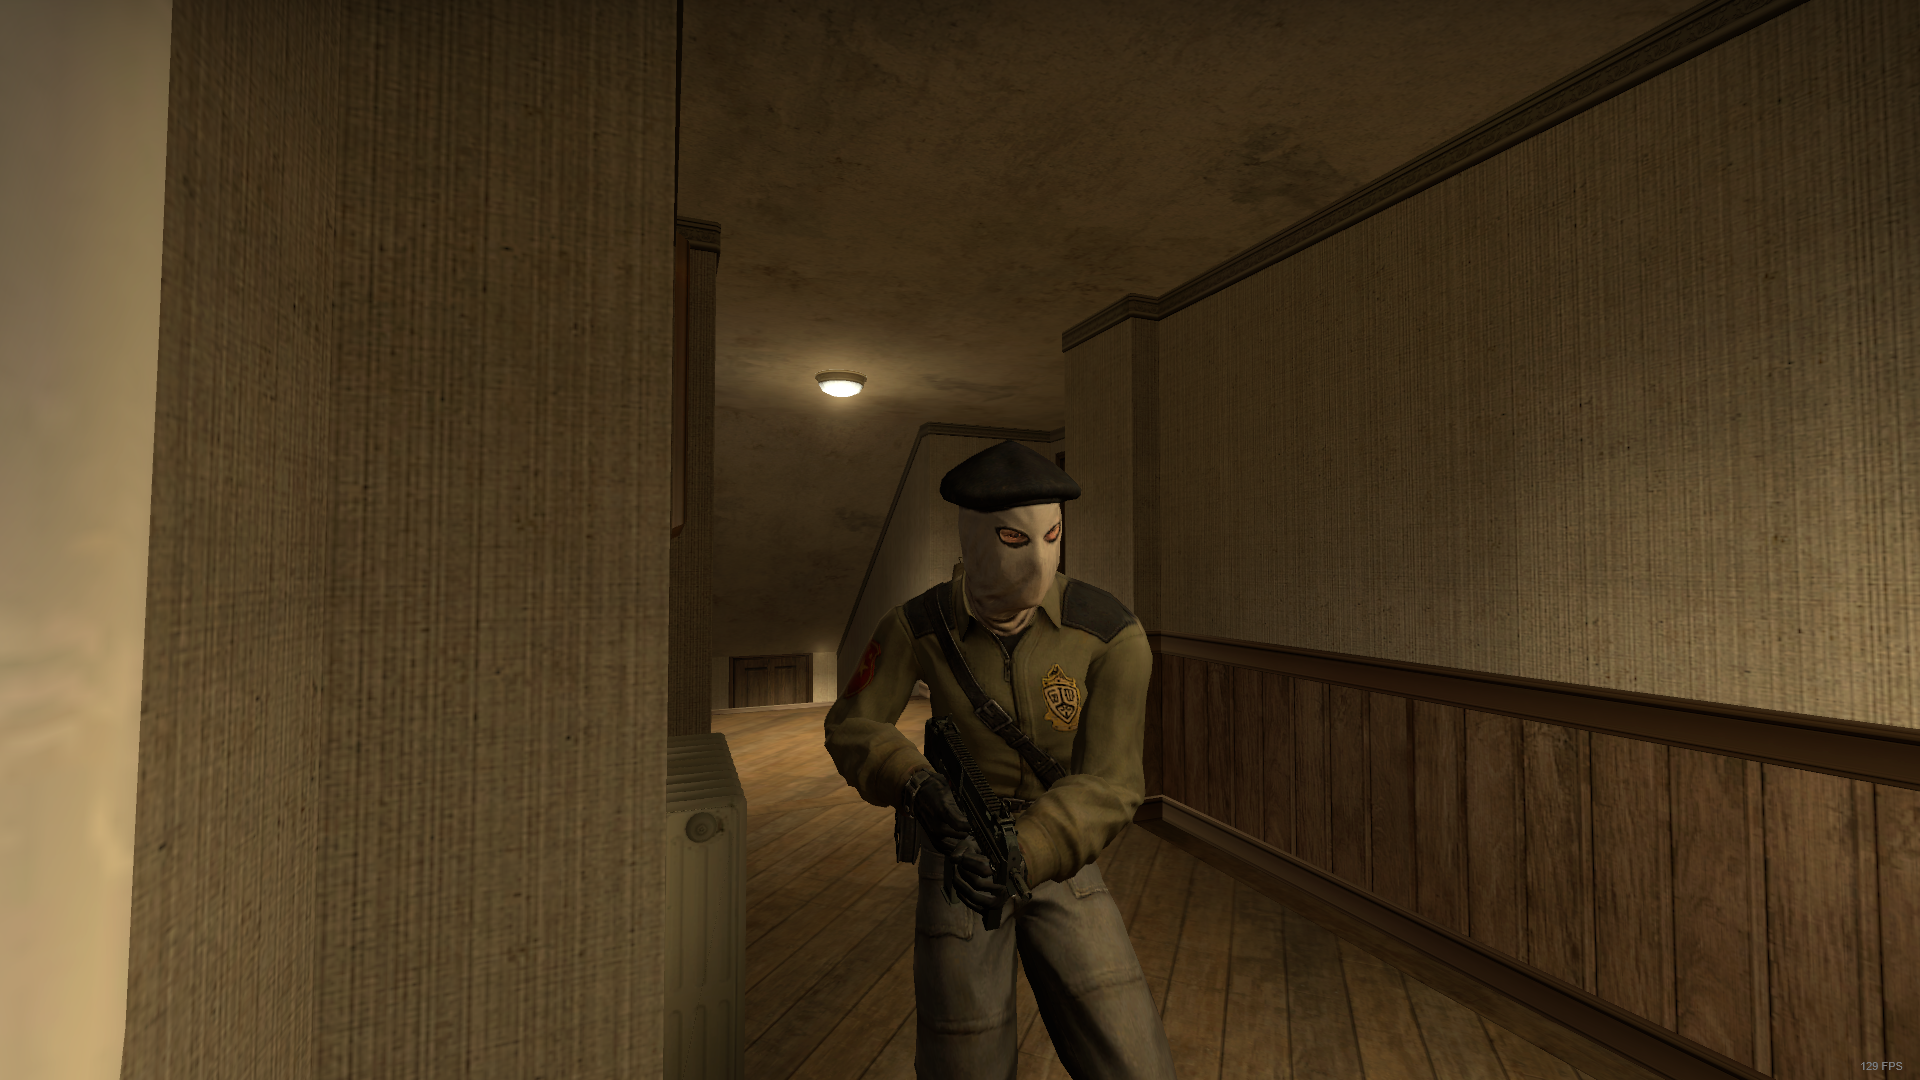t: (824, 440, 1164, 1080)
